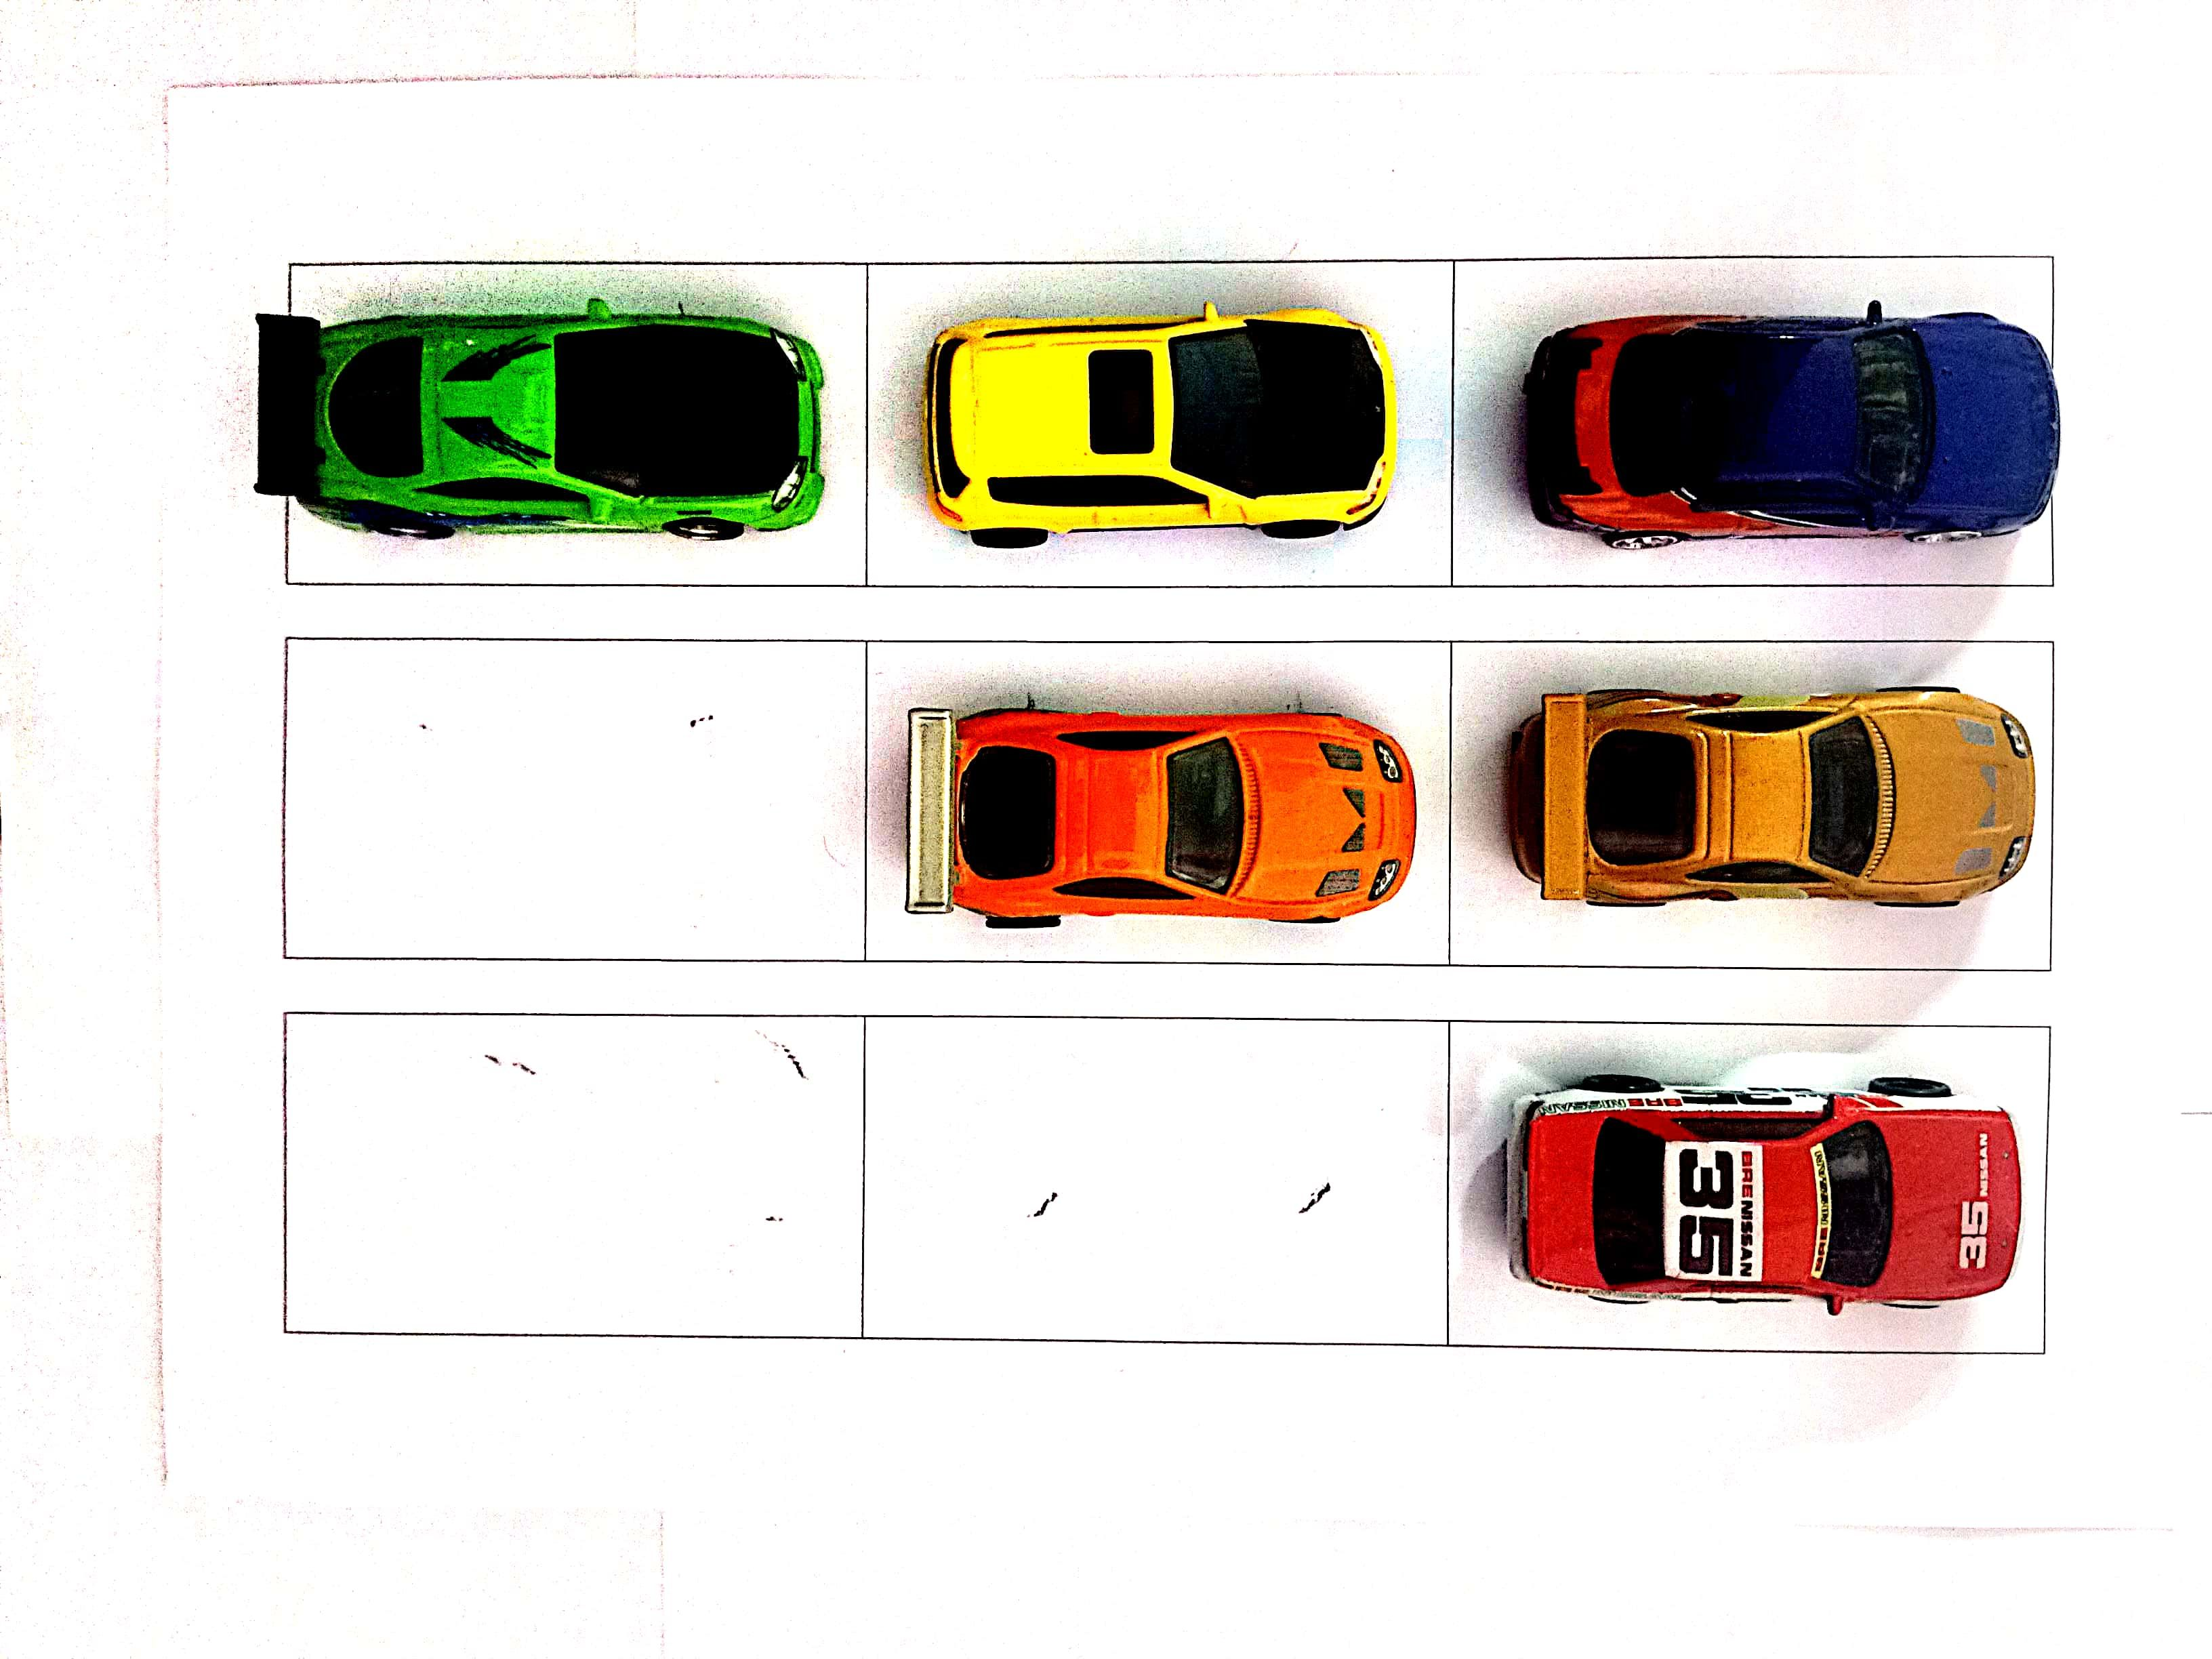Busy: (1446, 641, 2045, 967), (1446, 1019, 2050, 1342), (860, 258, 1454, 580), (282, 263, 860, 593), (1458, 263, 2055, 580), (869, 640, 1451, 962), (214, 427, 239, 430)
Free: (277, 641, 871, 964), (282, 1011, 866, 1337), (860, 1018, 1446, 1340)
